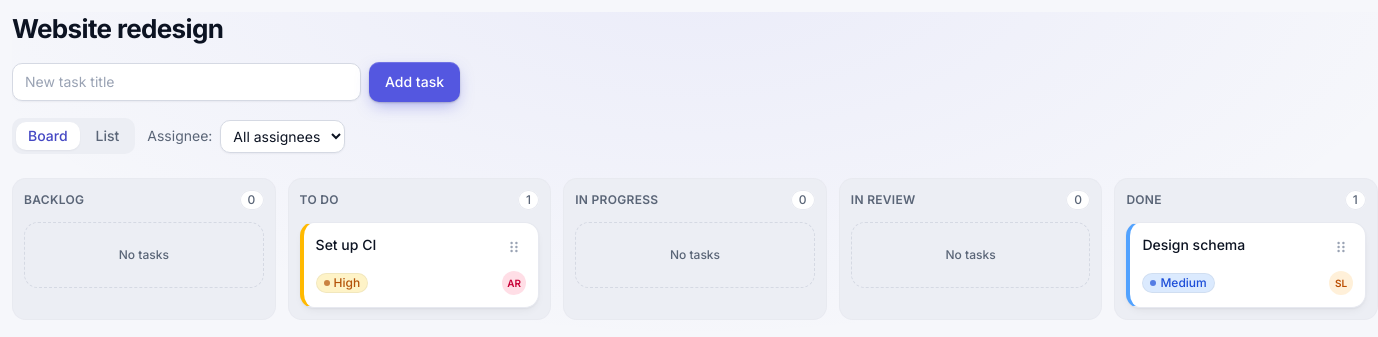
ProjectBoardPage › creates a task
The width and height of the screenshot is (1378, 337).
Expected: the button "Set up CI" is shown, x1=316 y1=235 x2=376 y2=255
In the field with placeholder "New task title": (186, 82) x1=12 y1=63 x2=361 y2=101, type "Write docs"
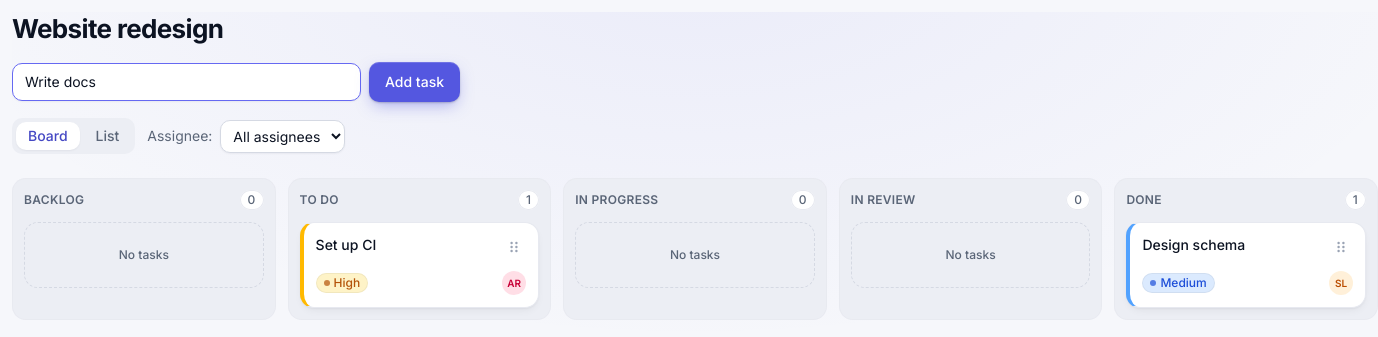
Click the button named "Add task": (414, 82) x1=369 y1=62 x2=460 y2=102
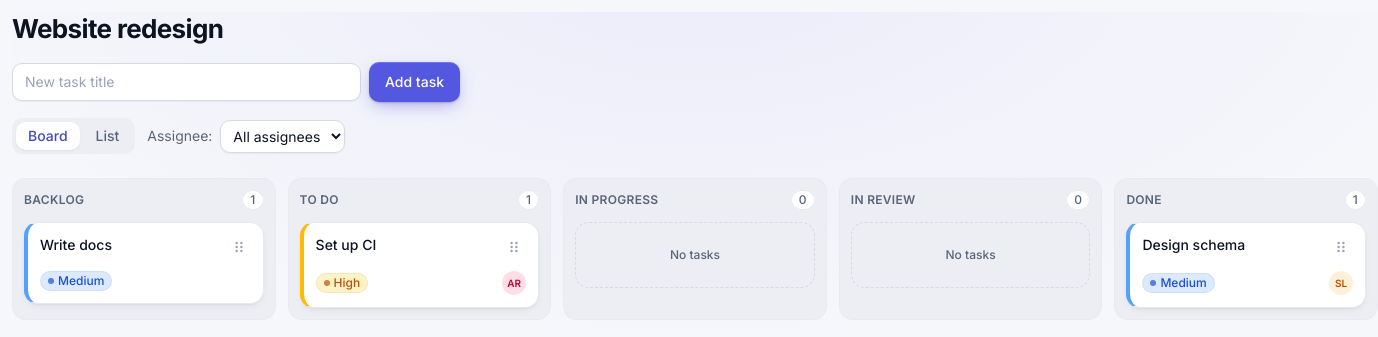
Now the button "Write docs" is shown, box x1=40 y1=235 x2=112 y2=255
